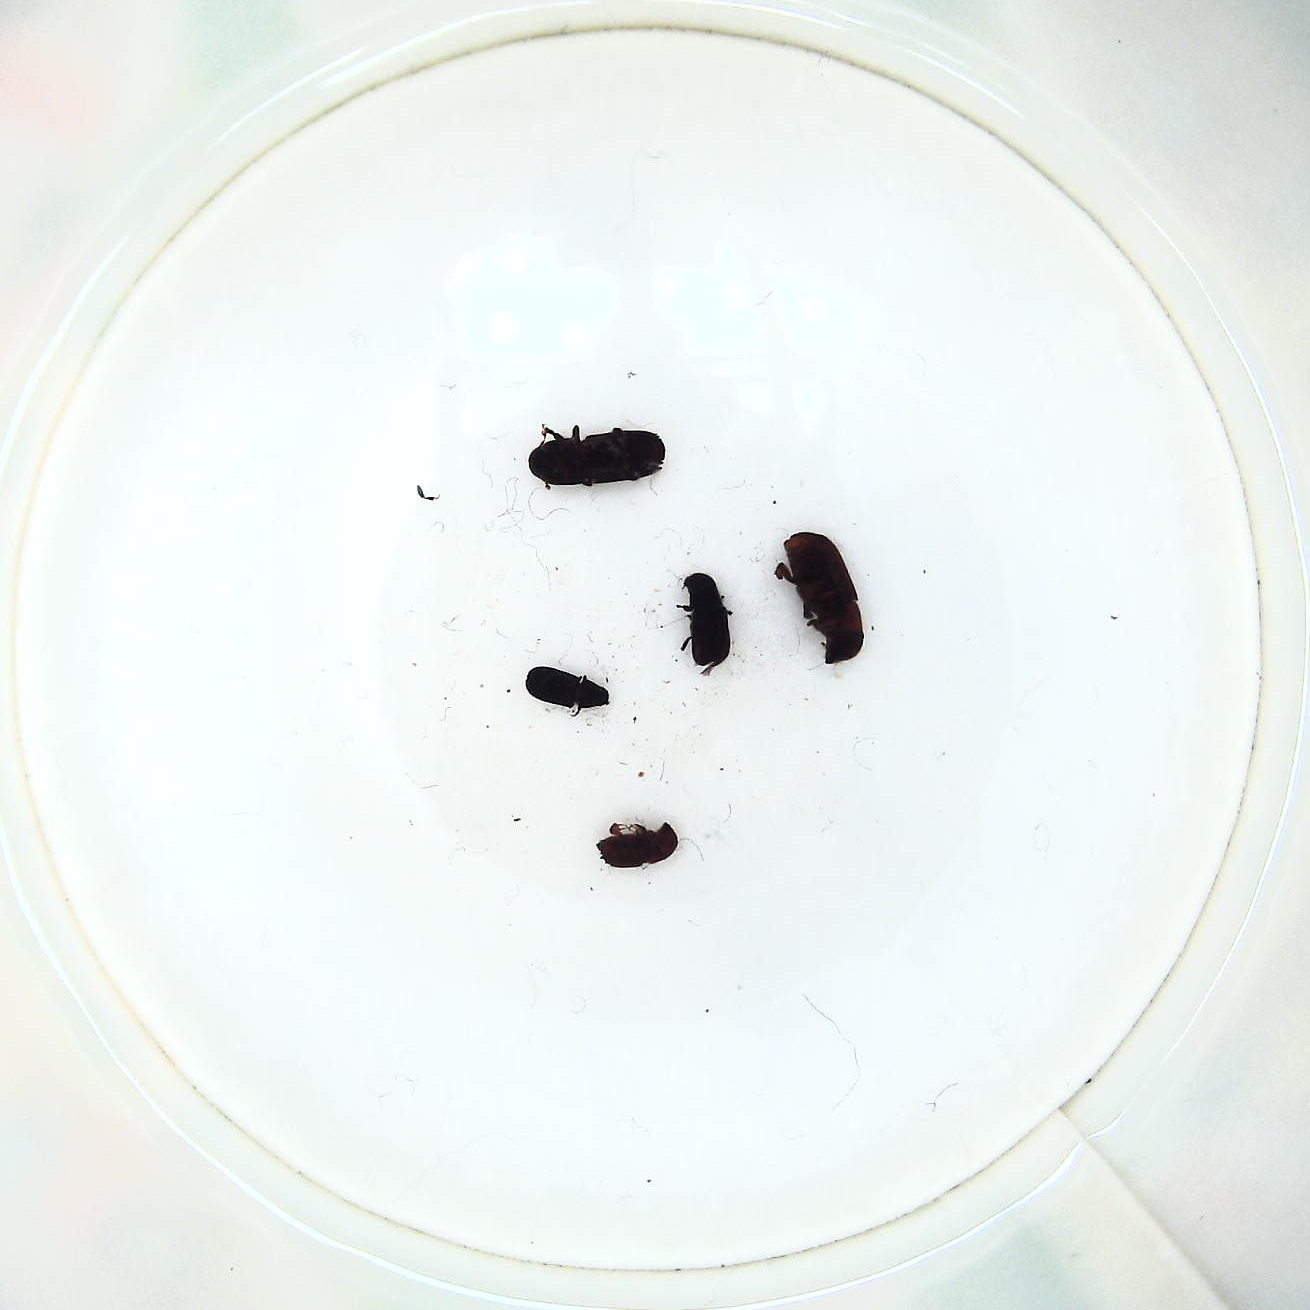Boerner: (524, 420, 668, 499)
Leconte: (768, 528, 873, 669)
armandi: (683, 573, 739, 679)
coleoptera: (519, 662, 619, 716)
linnaeus: (595, 813, 680, 872)
